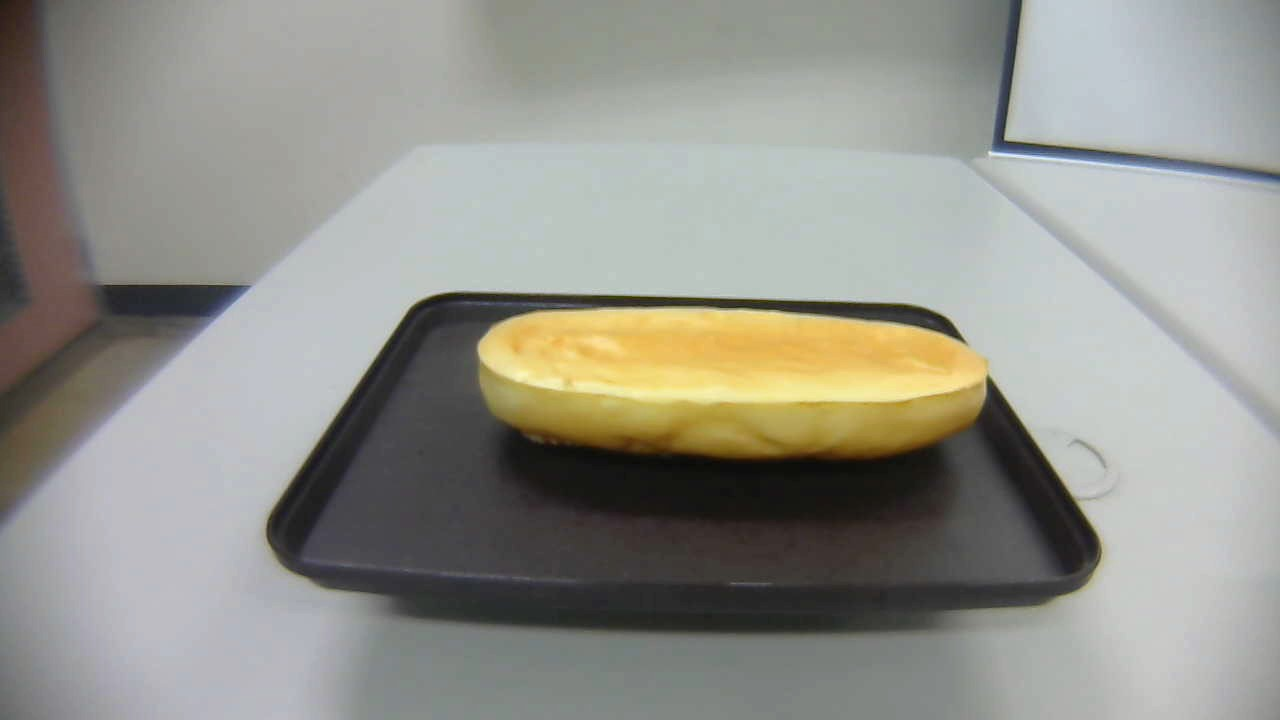hot dog: (477, 304, 990, 458)
